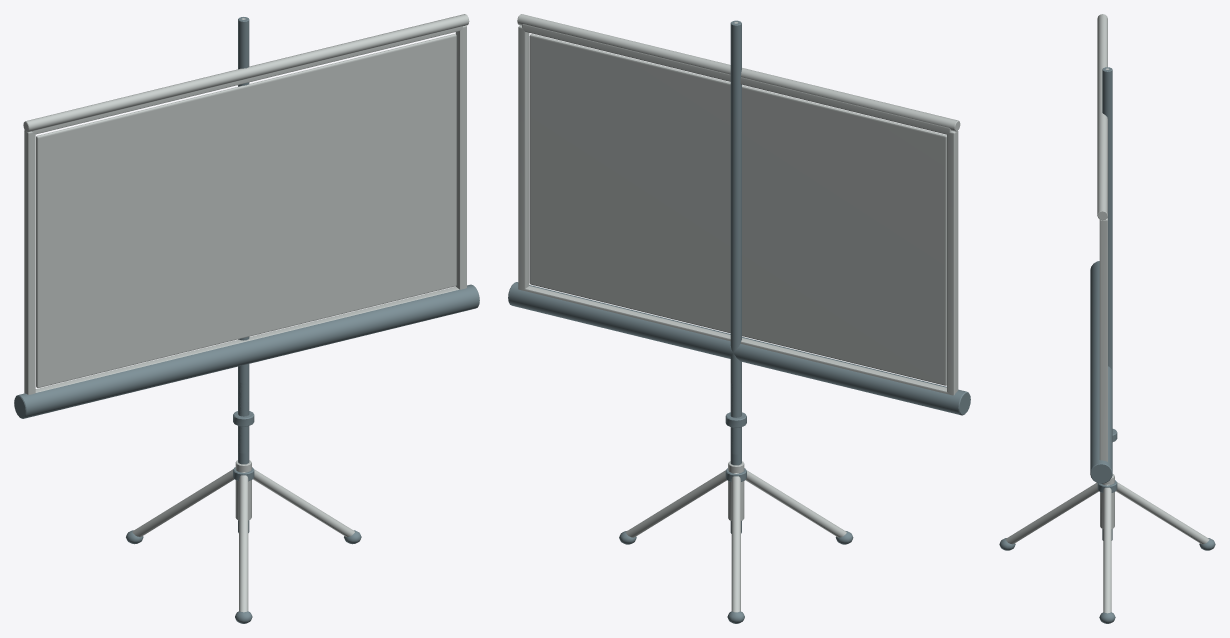
File: projector-screen.glb
The picture shows the model from 3 angles, left to right: view 1: azimuth 30°, elevation 25°; view 2: azimuth 150°, elevation 25°; view 3: azimuth 270°, elevation 25°; orthographic projection. The views are drawn at different scales.
Parts seen in each view (by area): view 1: screen_fabric, screen_canister, screen_top_rail, black_border_side, black_border_side.001, black_border_rail.001, black_border_rail, screen_riser, tripod_leg_1, tripod_leg_0, tripod_leg_2; view 2: screen_fabric, screen_canister, screen_riser, screen_top_rail, black_border_rail.001, black_border_side, black_border_side.001, black_border_rail, tripod_leg_2, tripod_leg_0, tripod_leg_1; view 3: screen_canister, black_border_side.001, screen_top_rail, screen_riser, tripod_leg_0, tripod_leg_2, tripod_leg_1, lower_stand.
Part boxes in pixels (x1=…): screen_fabric: x1=36, y1=34, x2=456, y2=387; screen_canister: x1=14, y1=284, x2=479, y2=418; screen_top_rail: x1=23, y1=14, x2=469, y2=132; black_border_side: x1=24, y1=130, x2=35, y2=394; black_border_side.001: x1=455, y1=25, x2=466, y2=289; black_border_rail.001: x1=32, y1=26, x2=462, y2=134; black_border_rail: x1=35, y1=286, x2=459, y2=392; screen_riser: x1=238, y1=17, x2=249, y2=453; tripod_leg_1: x1=239, y1=472, x2=248, y2=612; tripod_leg_0: x1=253, y1=469, x2=354, y2=536; tripod_leg_2: x1=132, y1=469, x2=234, y2=536; screen_fabric: x1=529, y1=34, x2=946, y2=385; screen_canister: x1=508, y1=282, x2=970, y2=415; screen_riser: x1=730, y1=20, x2=741, y2=454; screen_top_rail: x1=517, y1=14, x2=960, y2=131; black_border_rail.001: x1=522, y1=24, x2=951, y2=134; black_border_side: x1=947, y1=131, x2=958, y2=395; black_border_side.001: x1=518, y1=25, x2=529, y2=290; black_border_rail: x1=523, y1=286, x2=948, y2=394; tripod_leg_2: x1=731, y1=473, x2=740, y2=612; tripod_leg_0: x1=625, y1=470, x2=726, y2=537; tripod_leg_1: x1=745, y1=470, x2=846, y2=537; screen_canister: x1=1090, y1=261, x2=1112, y2=483; black_border_side.001: x1=1099, y1=218, x2=1107, y2=461; screen_top_rail: x1=1097, y1=14, x2=1107, y2=220; screen_riser: x1=1102, y1=67, x2=1112, y2=370; tripod_leg_0: x1=1103, y1=484, x2=1111, y2=613; tripod_leg_2: x1=1116, y1=482, x2=1209, y2=544; tripod_leg_1: x1=1005, y1=483, x2=1098, y2=544; lower_stand: x1=1100, y1=474, x2=1114, y2=528.
Size of the model in its own units: 2 by 2.32 by 0.8994.
